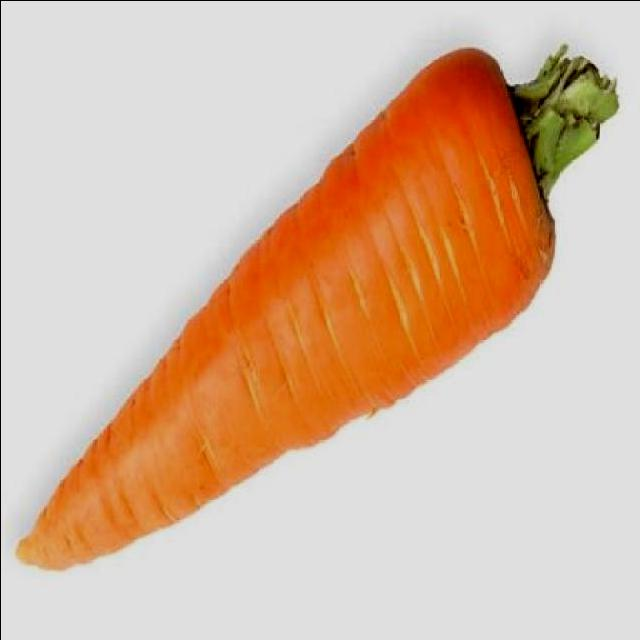carrot: (9, 34, 569, 596)
